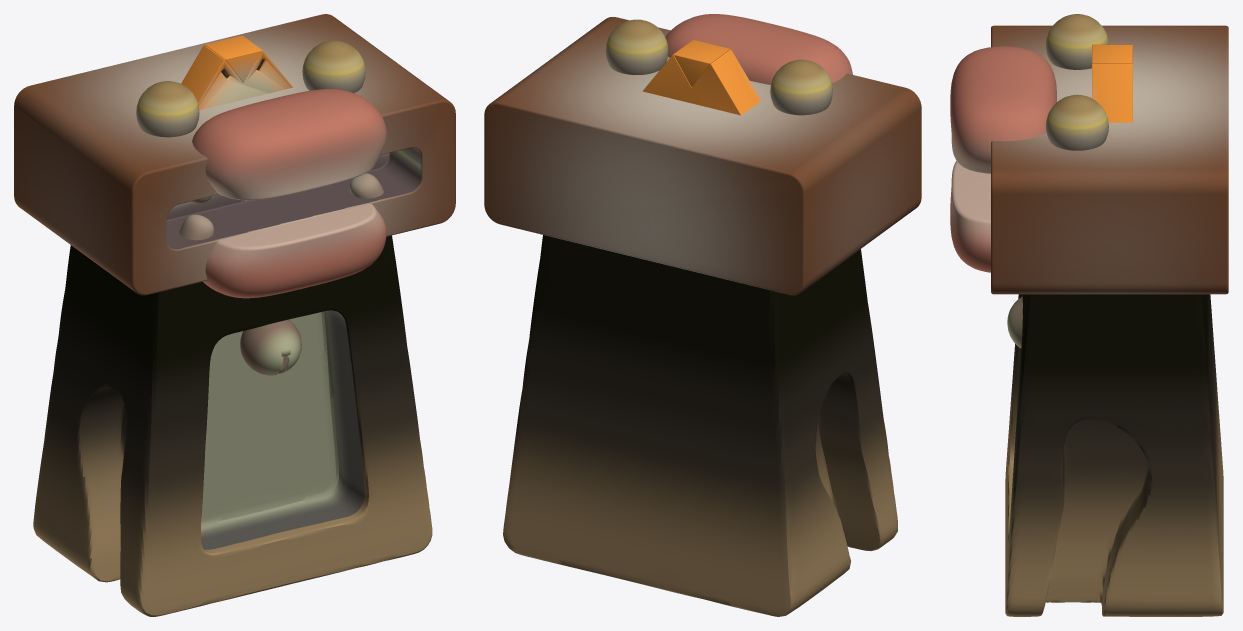
The picture shows the model from 3 angles, left to right: view 1: azimuth 30°, elevation 25°; view 2: azimuth 150°, elevation 25°; view 3: azimuth 270°, elevation 25°; orthographic projection.
Visible parts, largest first — view 1: 身体, 嘴巴, 眼睛, 鼻子, 铃铛; view 2: 身体, 嘴巴, 眼睛, 鼻子; view 3: 身体, 嘴巴, 眼睛, 鼻子, 铃铛.
Part boxes in pixels (x1,y1,x2,y2): 身体: (33, 235, 432, 616); 嘴巴: (14, 14, 455, 298); 眼睛: (136, 40, 365, 137); 鼻子: (181, 35, 293, 110); 铃铛: (240, 319, 301, 375); 身体: (503, 235, 897, 616); 嘴巴: (484, 14, 921, 295); 眼睛: (605, 19, 832, 115); 鼻子: (642, 40, 761, 115); 身体: (1005, 294, 1223, 616); 嘴巴: (950, 25, 1228, 294); 眼睛: (1045, 14, 1108, 150); 鼻子: (1092, 44, 1132, 122); 铃铛: (1007, 296, 1022, 348).
Size of the model in its own units: 254 by 375 by 190.
